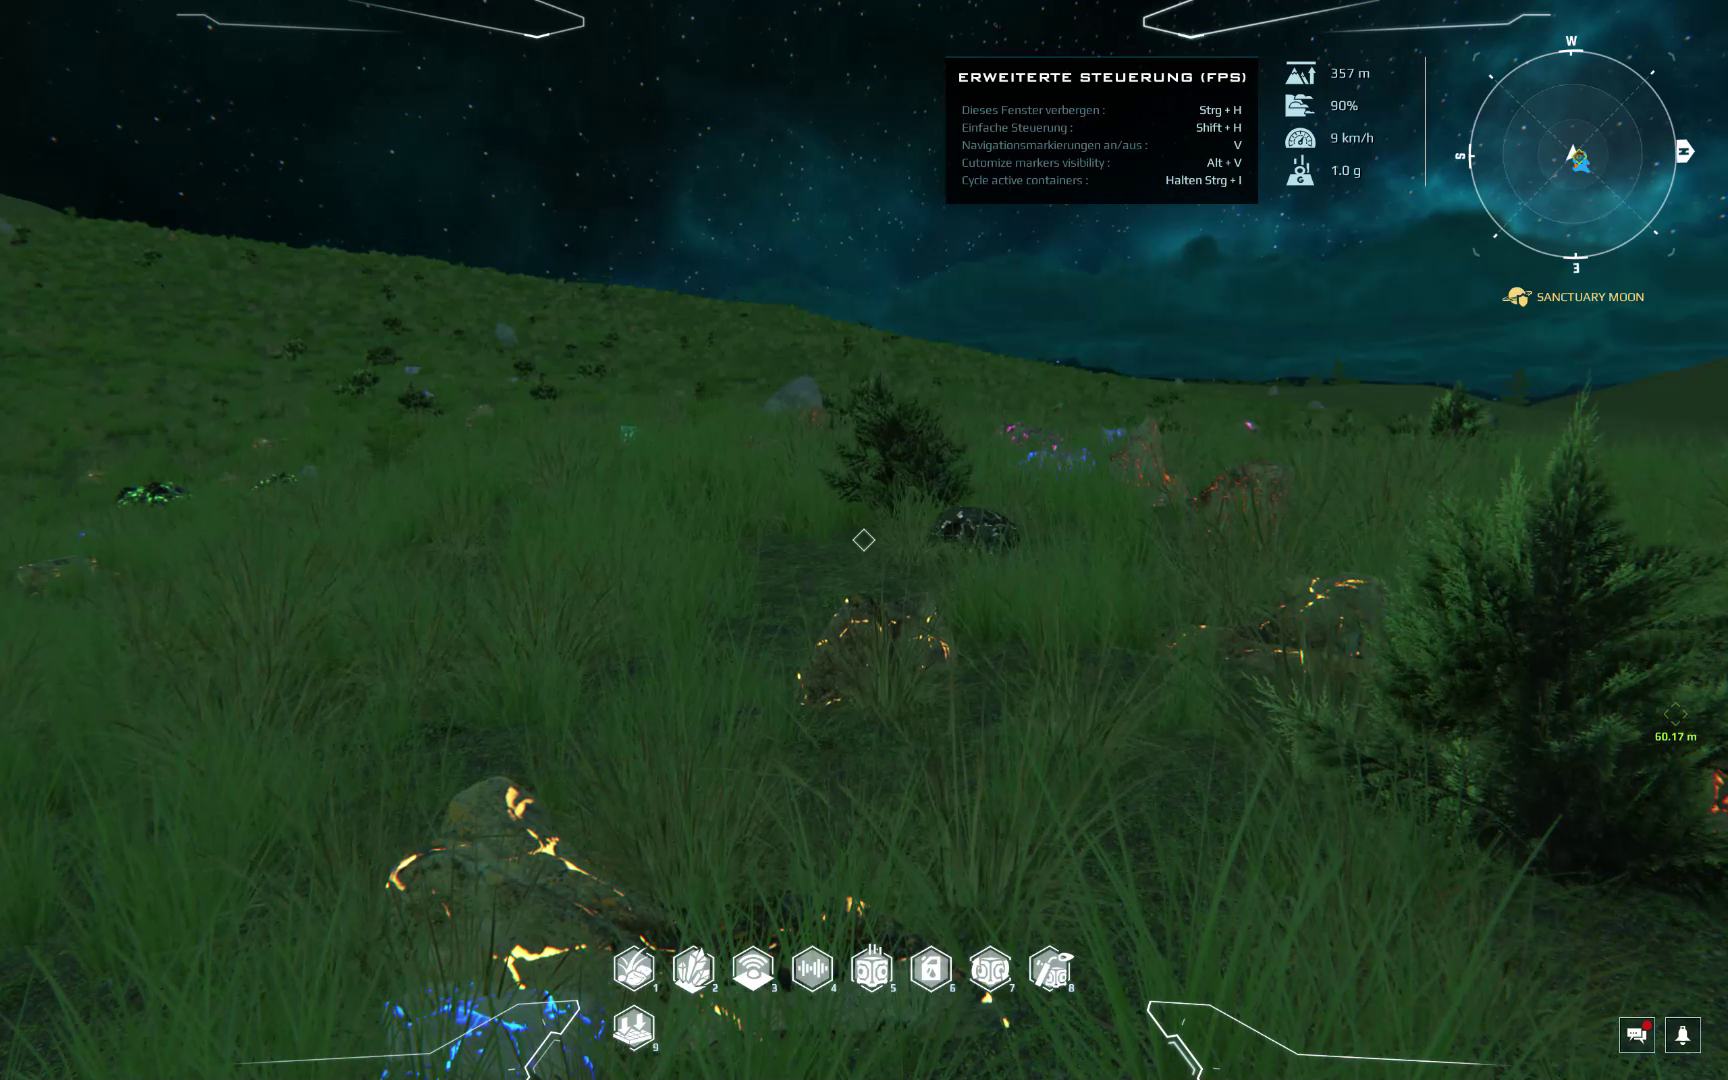Ore: (360, 763, 690, 961), (704, 906, 1031, 1079), (1157, 565, 1408, 691), (371, 978, 639, 1080), (786, 584, 974, 727), (1192, 457, 1300, 542), (1113, 414, 1184, 509), (7, 551, 127, 596), (928, 503, 1028, 555), (1028, 440, 1103, 482), (111, 479, 197, 510), (1003, 416, 1057, 453), (248, 469, 307, 494), (797, 399, 834, 437), (1091, 409, 1132, 440), (1232, 413, 1268, 440), (607, 422, 648, 445), (463, 403, 504, 426), (248, 433, 275, 450), (80, 468, 107, 485)
